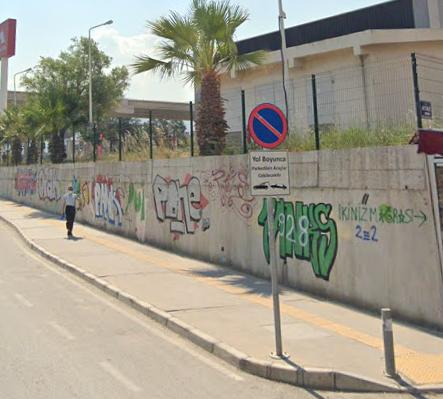nopark: (252, 107, 286, 145)
